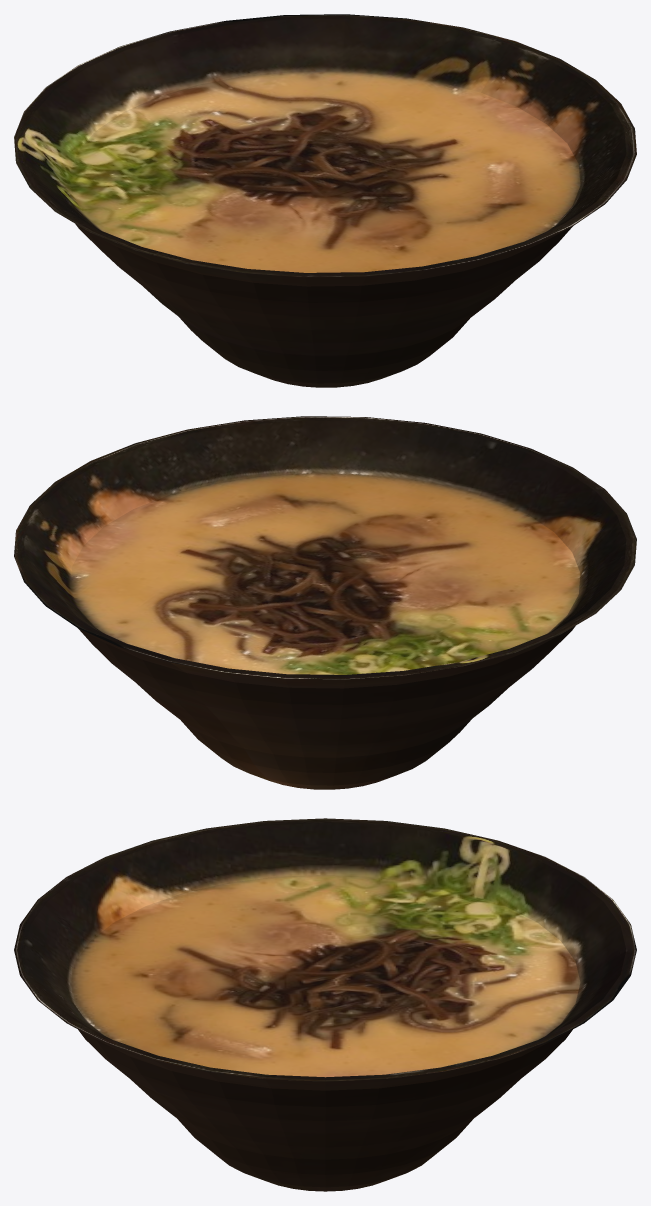
Rendered from zinanbou.fbx.
3 views of the same model, one above another, from view 1: azimuth 30°, elevation 25°; view 2: azimuth 150°, elevation 25°; view 3: azimuth 270°, elevation 25° (orthographic).
Parts seen in each view (by area): view 1: Cylinder; view 2: Cylinder; view 3: Cylinder.
Part boxes in pixels (x1,y1,x2,y2): Cylinder: (14,14,636,387); Cylinder: (14,416,636,789); Cylinder: (14,818,636,1191).
Size of the model in its own units: 904 by 329 by 904.
Materials: 1 (1 with a texture image).
